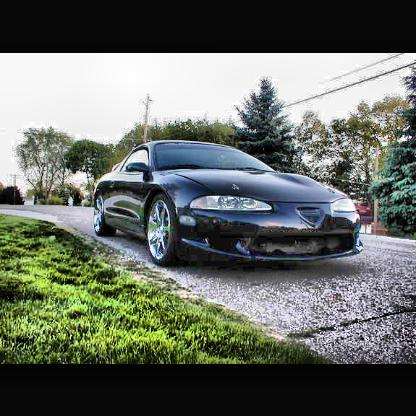Eagle Talon Hatchback 1998: (92, 142, 364, 269)
